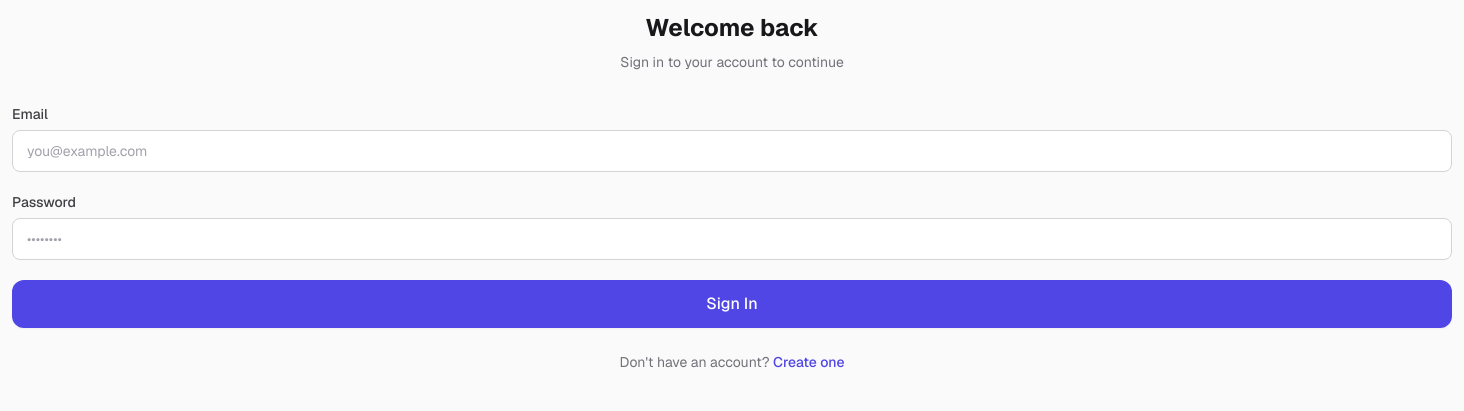
Scenario: LoginForm › should show validation error for invalid email
Type "not-an-email" into the field labelled "Email" at (732, 151), box [12,130,1452,172]
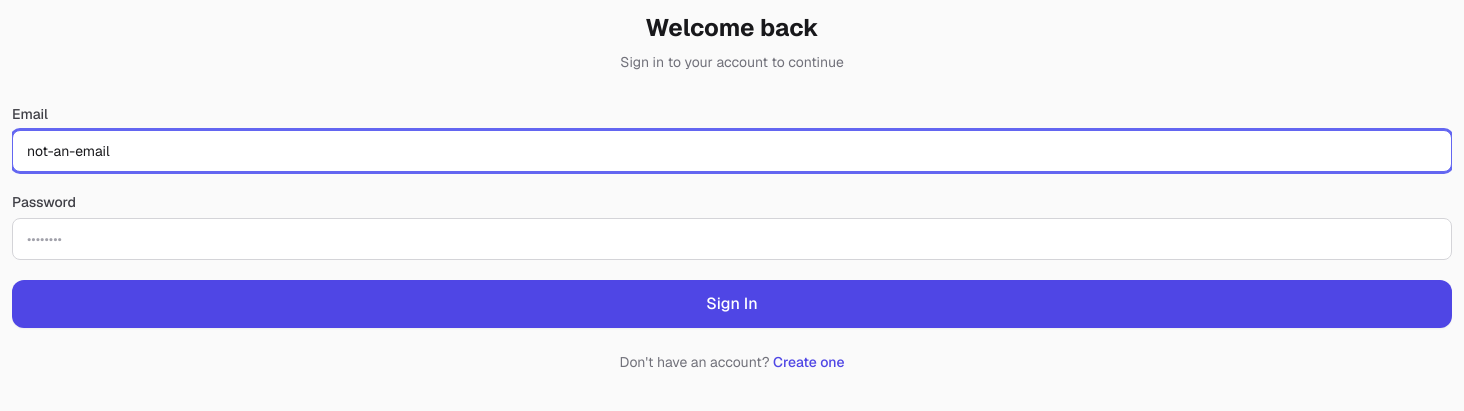
Type "Password1" into the password field labelled "Password" at (732, 239), box [12,218,1452,260]
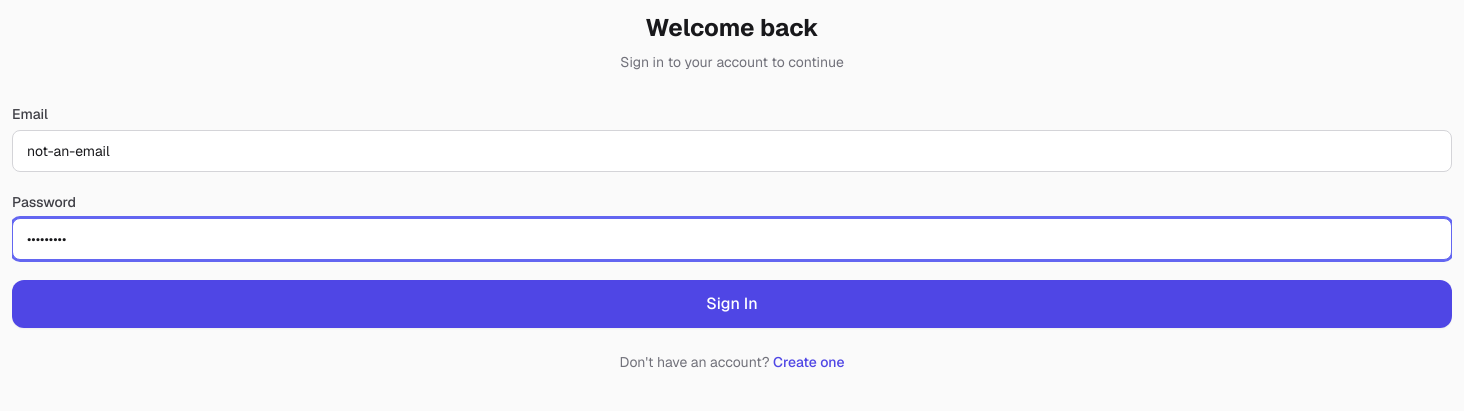
Click the button "Sign In" at (732, 304), box [12,280,1452,328]
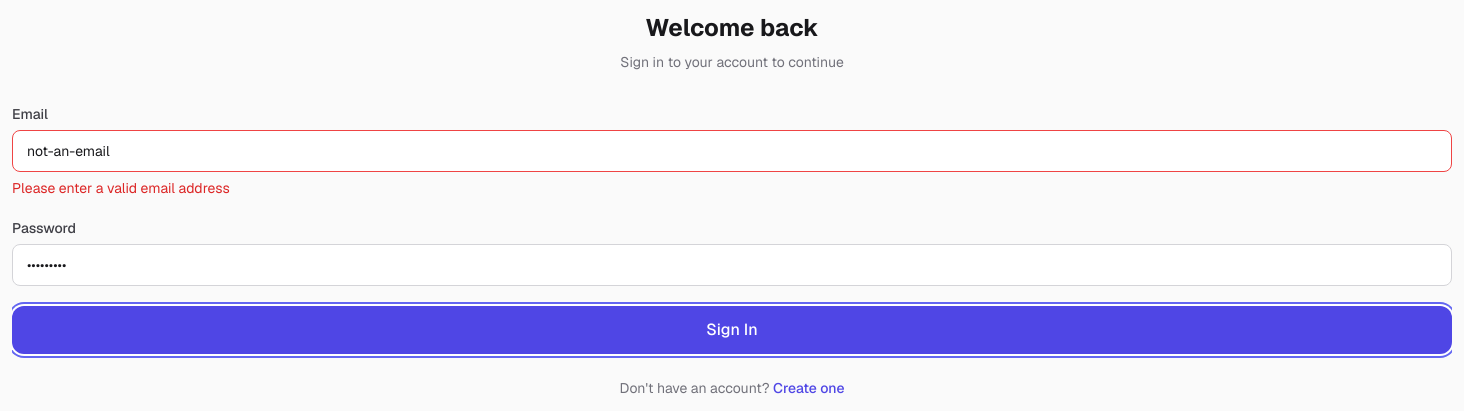
Result: the text "Please enter a valid email address" is shown at [12,179,230,197]
